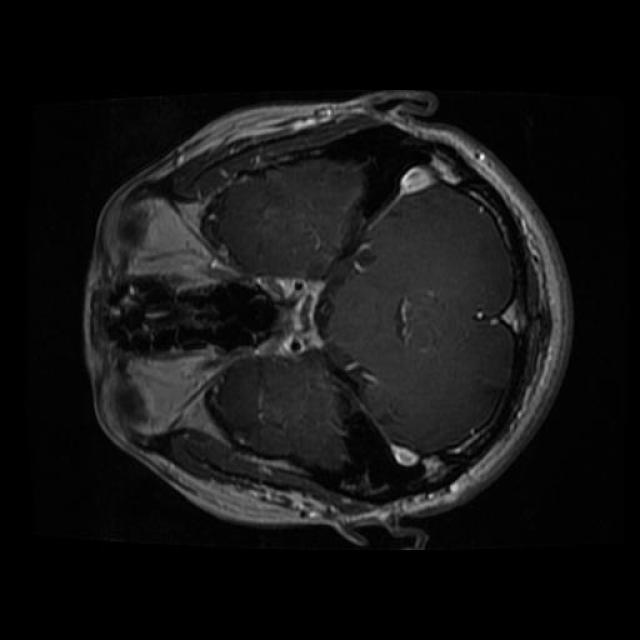Glioma: (205, 358, 262, 454)
